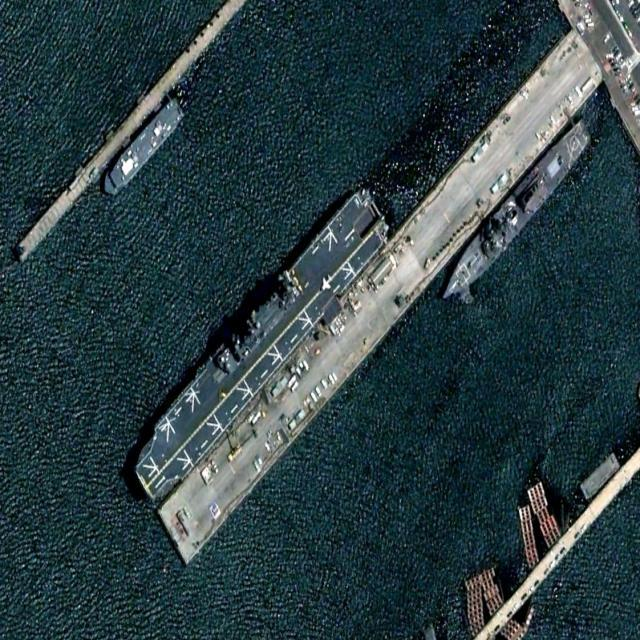Destroyer: (435, 111, 596, 313)
Landing: (124, 179, 394, 513)
Other Warship: (98, 97, 187, 204)
